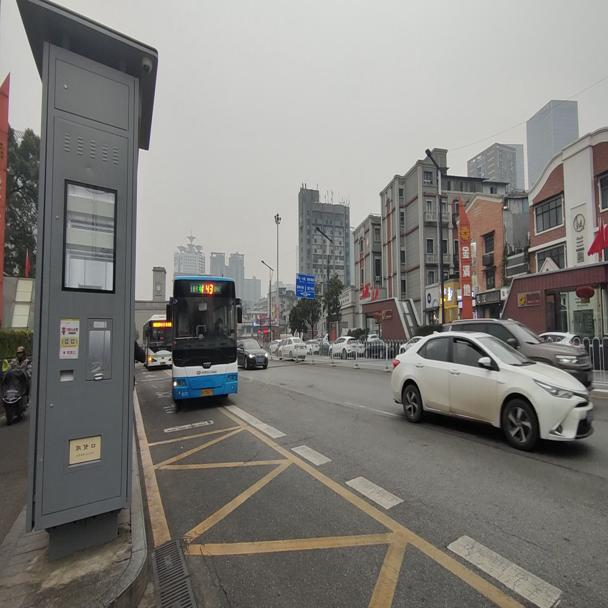bus: (168, 271, 240, 408), (142, 312, 171, 369)
screen: (199, 283, 214, 296)
